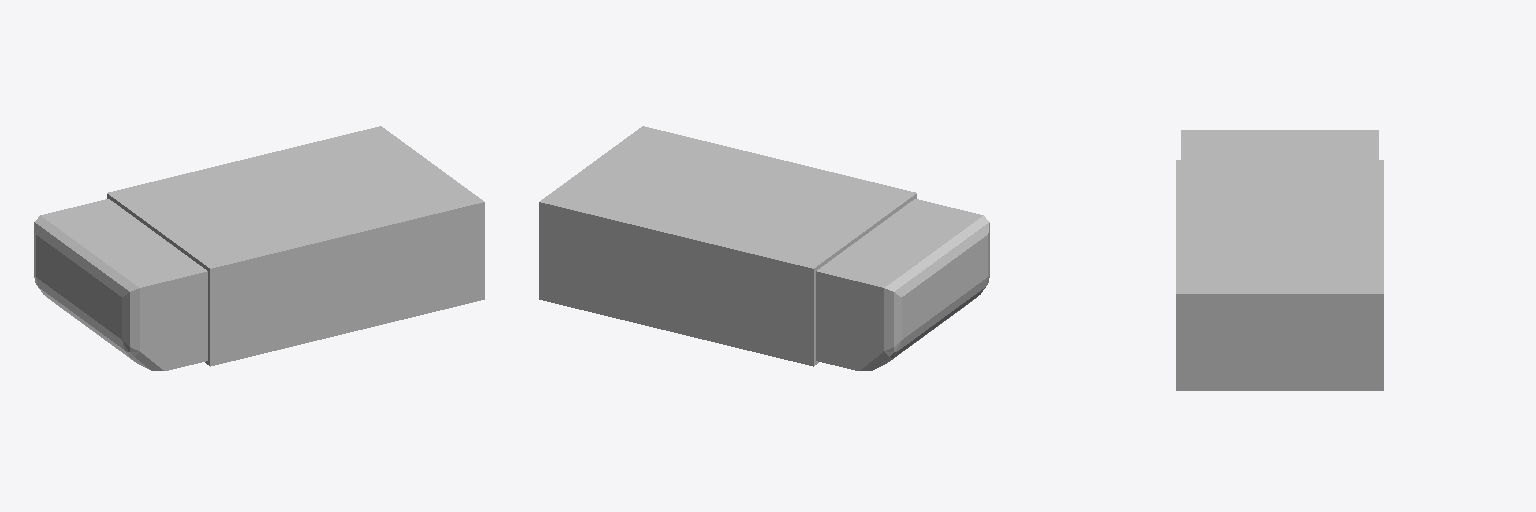
Rendered from eraser.obj.
3 renders of one model, left to right at view 1: azimuth 30°, elevation 25°; view 2: azimuth 150°, elevation 25°; view 3: azimuth 270°, elevation 25°, orthographic.
Visible parts, largest first — view 1: Cube.003; view 2: Cube.003; view 3: Cube.003.
Part boxes in pixels (x1,y1,x2,y2): Cube.003: (34,126,484,370); Cube.003: (539,126,989,370); Cube.003: (1176,130,1383,390).
Size of the model in its own units: 0.0352 by 0.0093 by 0.0179.